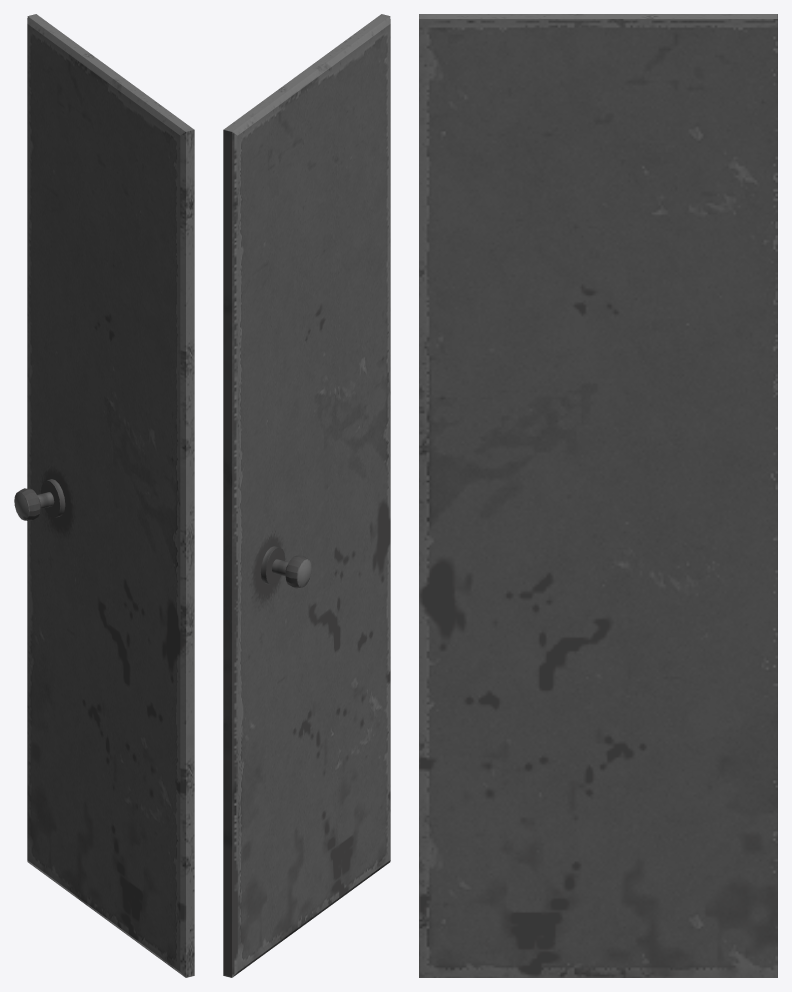
File: Porta delegaciaD.fbx
3 views of the same model, side by side, from view 1: azimuth 30°, elevation 25°; view 2: azimuth 150°, elevation 25°; view 3: azimuth 270°, elevation 25° (orthographic). The views are drawn at different scales.
Parts seen in each view (by area): view 1: Cube.005; view 2: Cube.005; view 3: Cube.005.
Boxes of the visible parts, bbox=[...] form: Cube.005: bbox=[14, 14, 194, 977]; Cube.005: bbox=[223, 14, 390, 977]; Cube.005: bbox=[419, 14, 777, 977].
Bounding box in the file's own units: 13.5 × 216 × 73.35.
